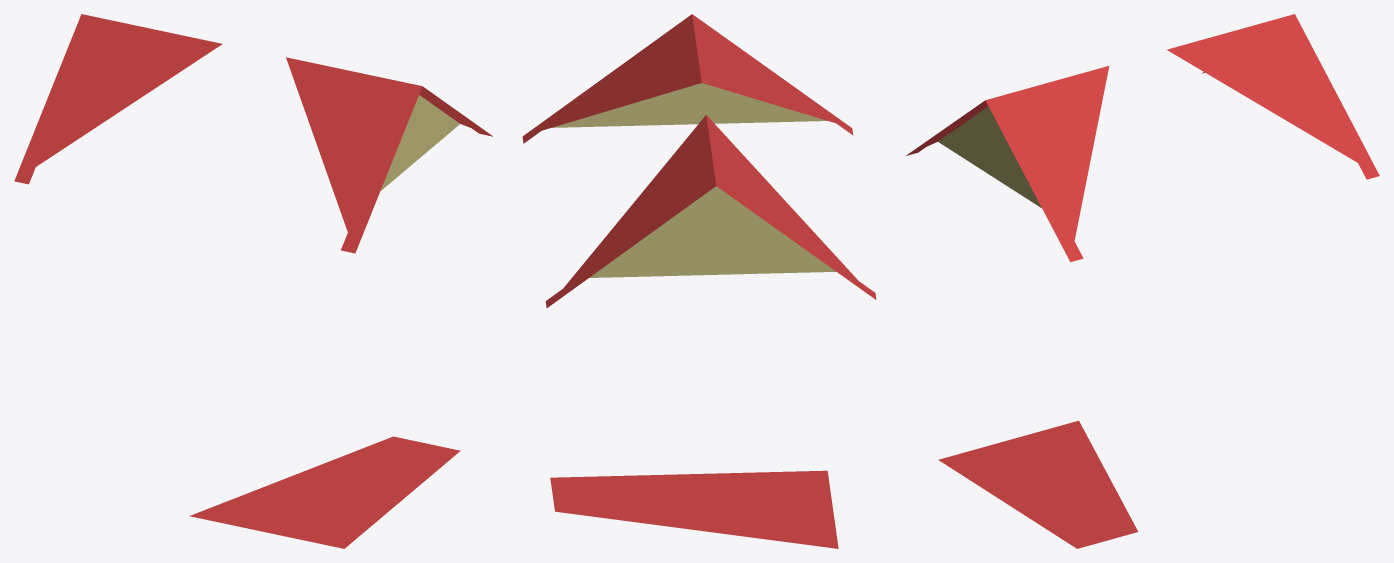
3 views of the same model, side by side, from view 1: azimuth 30°, elevation 25°; view 2: azimuth 150°, elevation 25°; view 3: azimuth 270°, elevation 25° (orthographic). The views are drawn at different scales.
Size of the model in its own units: 14.3 by 14.93 by 14.16.
